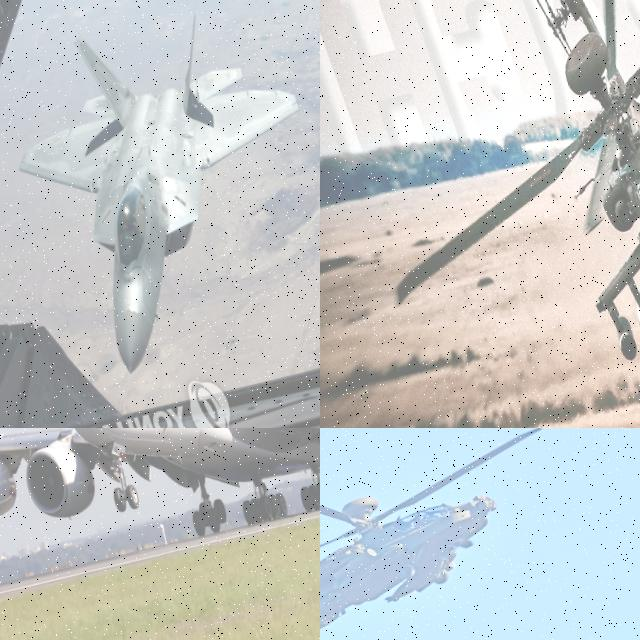A380: (0, 428, 320, 605)
Apache: (320, 0, 640, 428), (320, 428, 589, 640)
F22: (0, 0, 320, 391)
